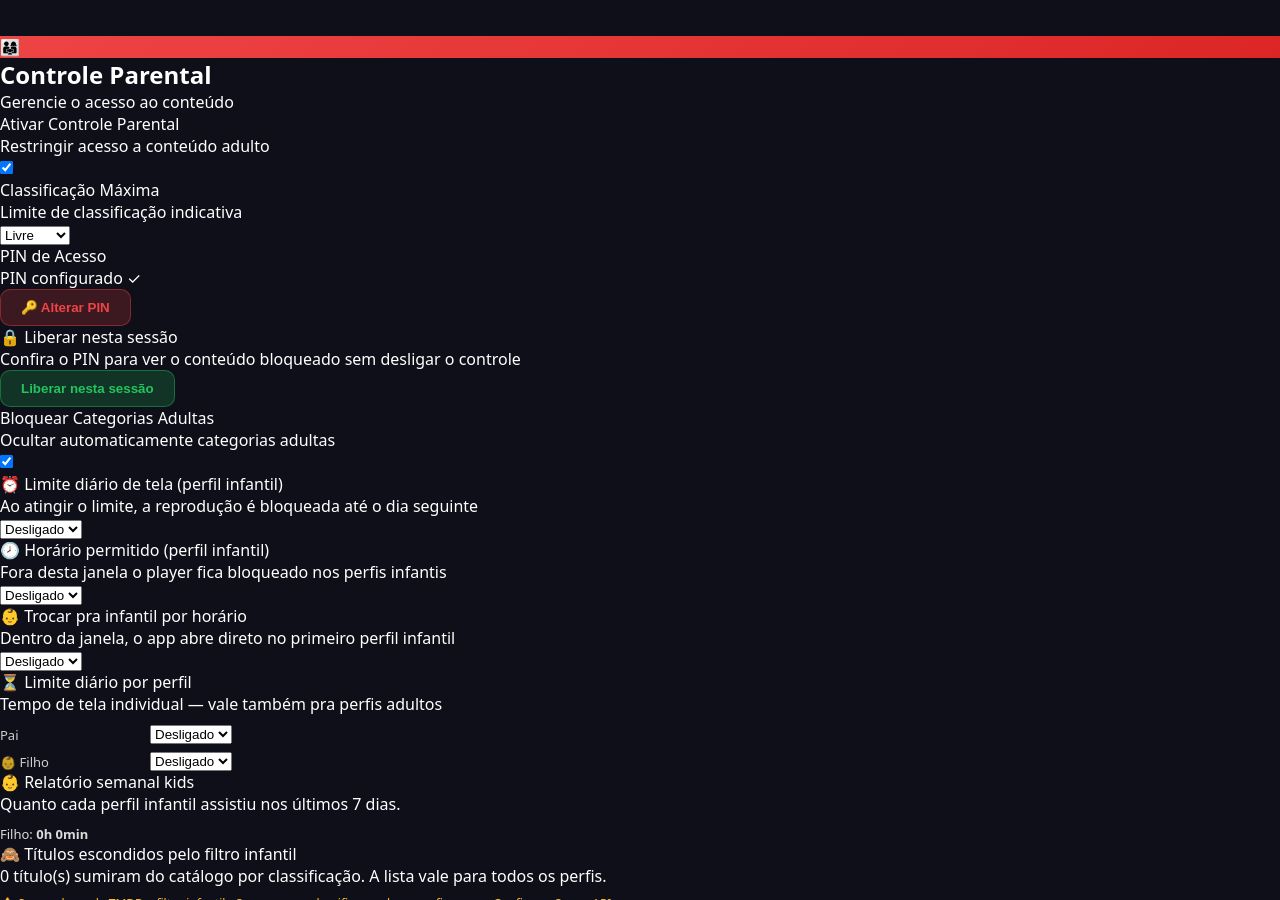
Test: a liberação do CONTEÚDO e o destrave da SEÇÃO não se misturam › com a seção DESTRAVADA, liberar ainda pede o PIN — o destrave da seção não vale para o conteúdo
Click the button "Liberar nesta sessão". click: click(87, 388)
box: x1=0 y1=370 x2=175 y2=407
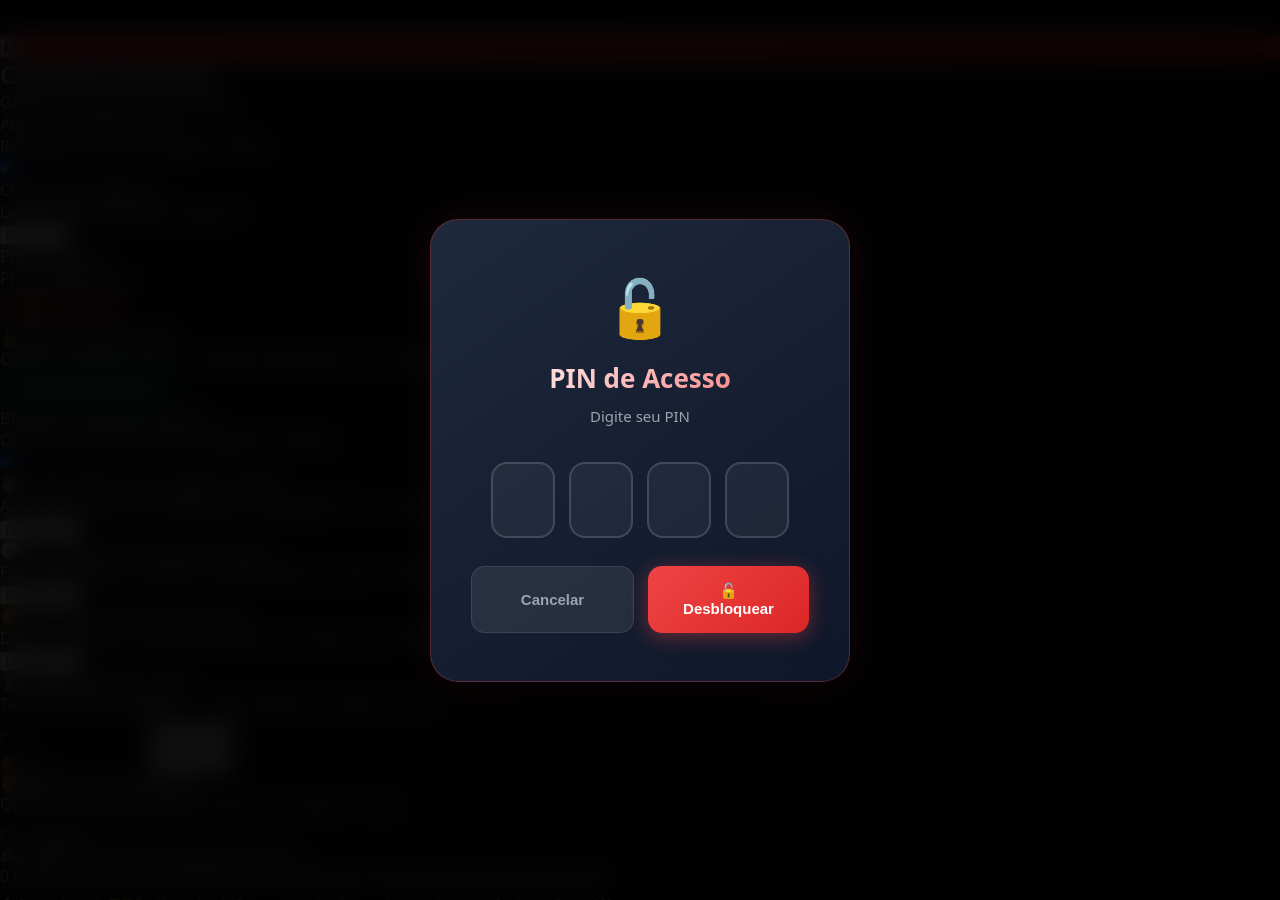
Expected: the element showing "🔓 PIN de Acesso Digite seu PIN Cancelar 🔓 Desbloquear" is shown
